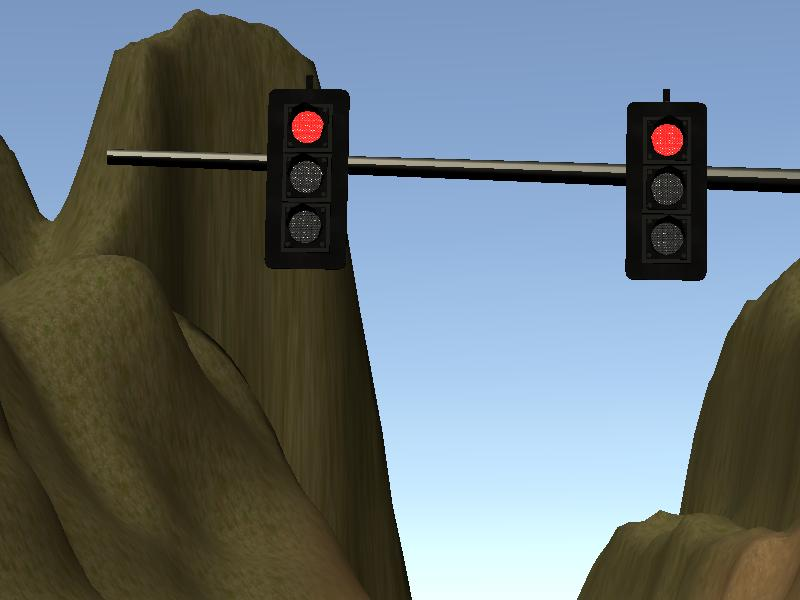red: (626, 101, 709, 282), (267, 86, 348, 270)
